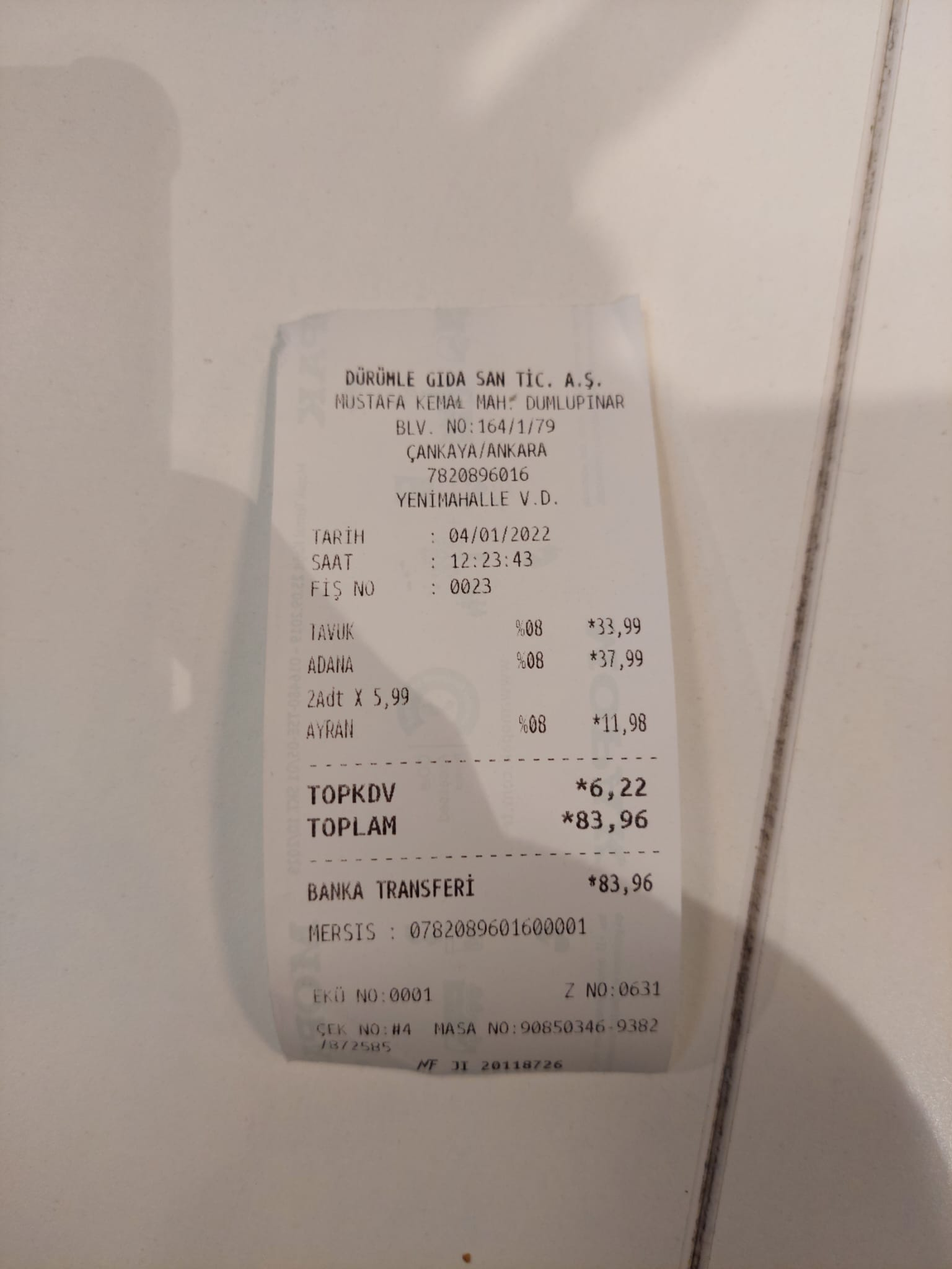date: (573, 801, 663, 839)
price: (443, 521, 558, 550)
workplace: (327, 355, 629, 463)
